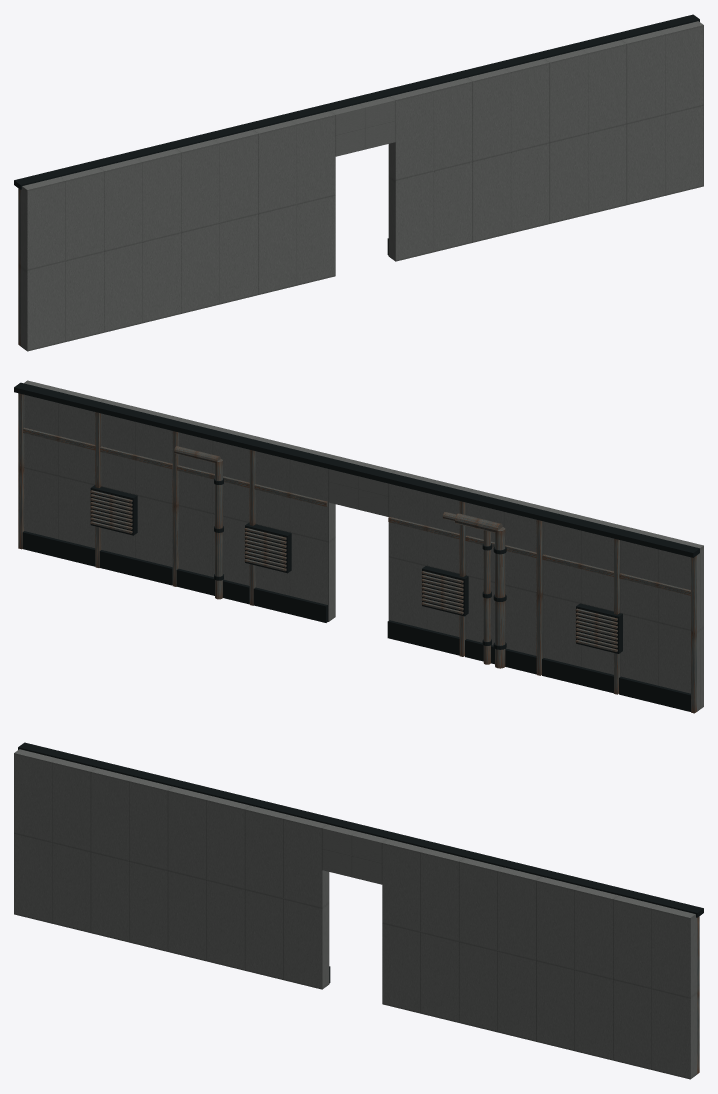
Rendered from ExitFacade.obj.
3 views of the same model, one above another, from view 1: azimuth 30°, elevation 25°; view 2: azimuth 150°, elevation 25°; view 3: azimuth 330°, elevation 25° (orthographic).
Visible parts, largest first — view 1: ExitFacade; view 2: ExitFacade; view 3: ExitFacade.
Boxes of the visible parts, x1,y1,x2,y2 form: ExitFacade: [14, 14, 703, 351]; ExitFacade: [14, 380, 703, 713]; ExitFacade: [14, 742, 703, 1079].
Bounding box in the file's own units: 23.8 × 5.45 × 0.955.
Materials: 3 (2 with a texture image).
